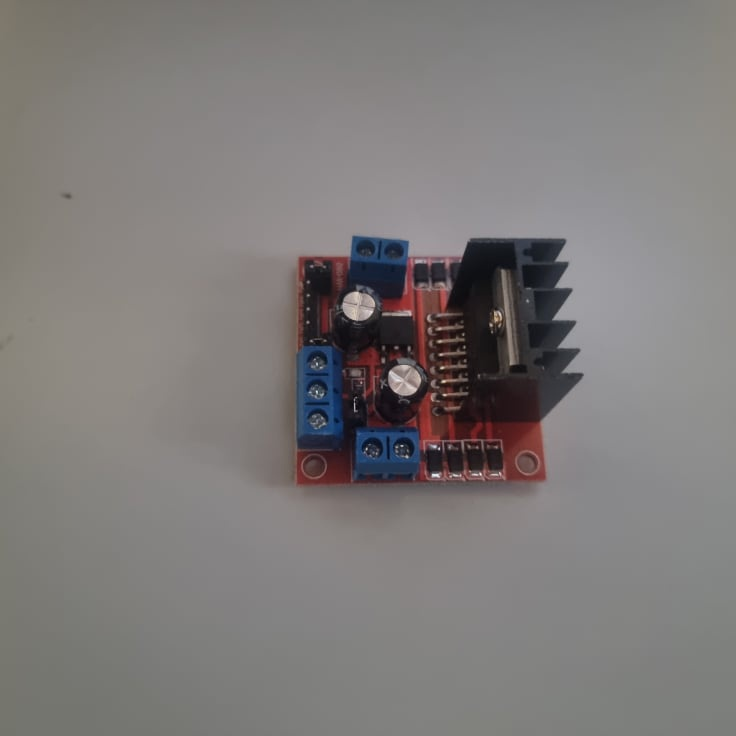MOTOR: (292, 237, 586, 491)
